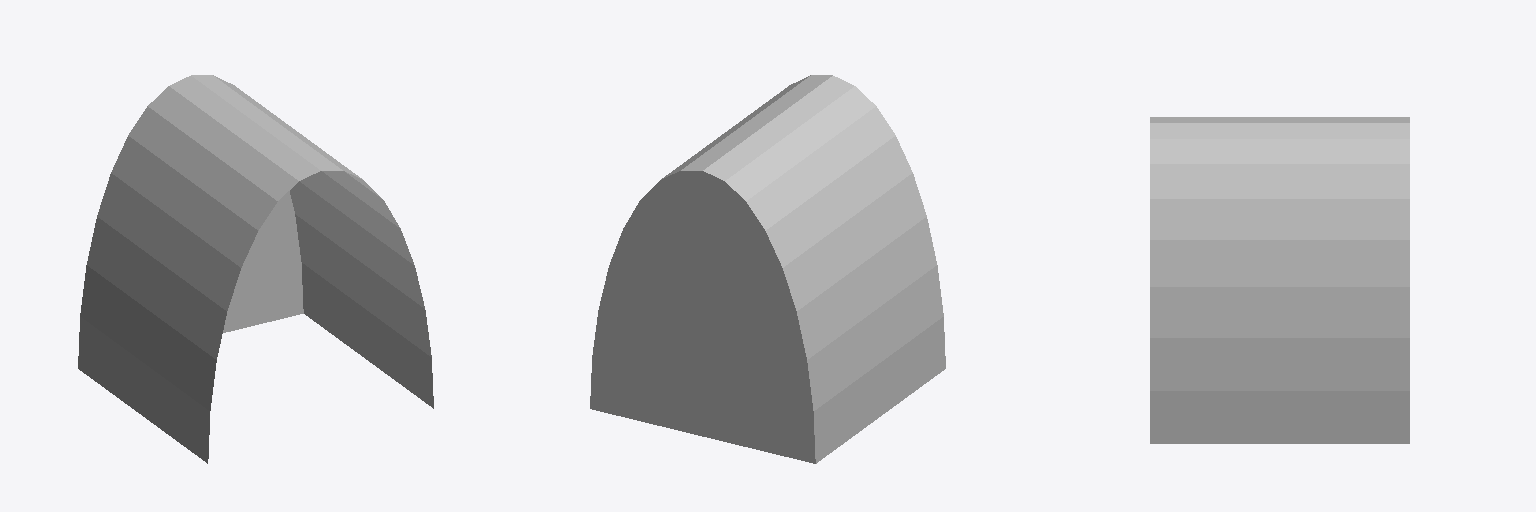
The model's file is connector_blind.obj.
3 views of the same model, side by side, from view 1: azimuth 30°, elevation 25°; view 2: azimuth 150°, elevation 25°; view 3: azimuth 270°, elevation 25° (orthographic).
Visible parts, largest first — view 1: Connector_blind; view 2: Connector_blind; view 3: Connector_blind.
Part boxes in pixels (x1,y1,x2,y2): Connector_blind: (78, 75, 433, 463); Connector_blind: (590, 75, 945, 463); Connector_blind: (1150, 117, 1409, 443).
Bounding box in the file's own units: 2 × 2.25 × 2.